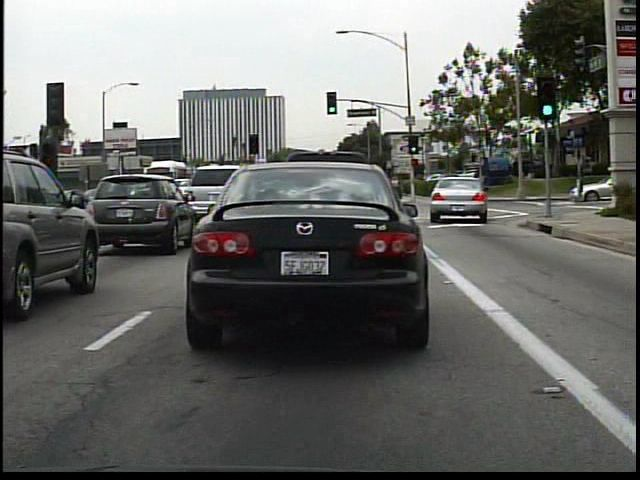person: (387, 172, 406, 204)
